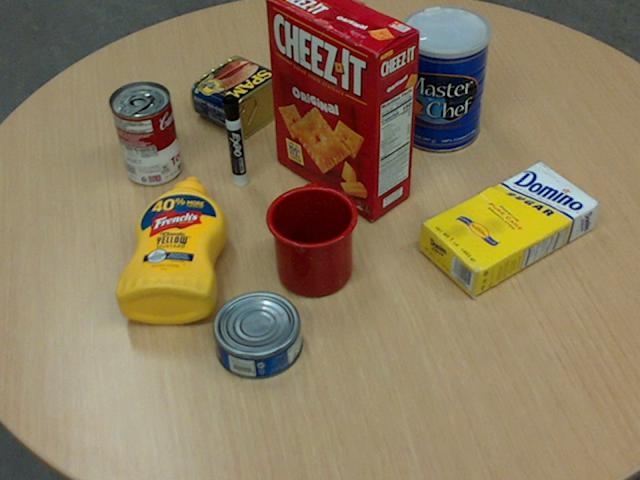cracker_box: (266, 0, 419, 218)
gelatin_box: (299, 45, 373, 107)
large_marker: (221, 93, 246, 187)
master_chef_can: (398, 6, 490, 153)
mug: (264, 184, 357, 296)
mustard_bottle: (114, 176, 226, 323)
potted_meat_can: (190, 55, 292, 137)
sugar_box: (418, 162, 599, 298)
tomato_soup_can: (108, 79, 180, 183)
tuna_fish_can: (212, 291, 302, 379)
